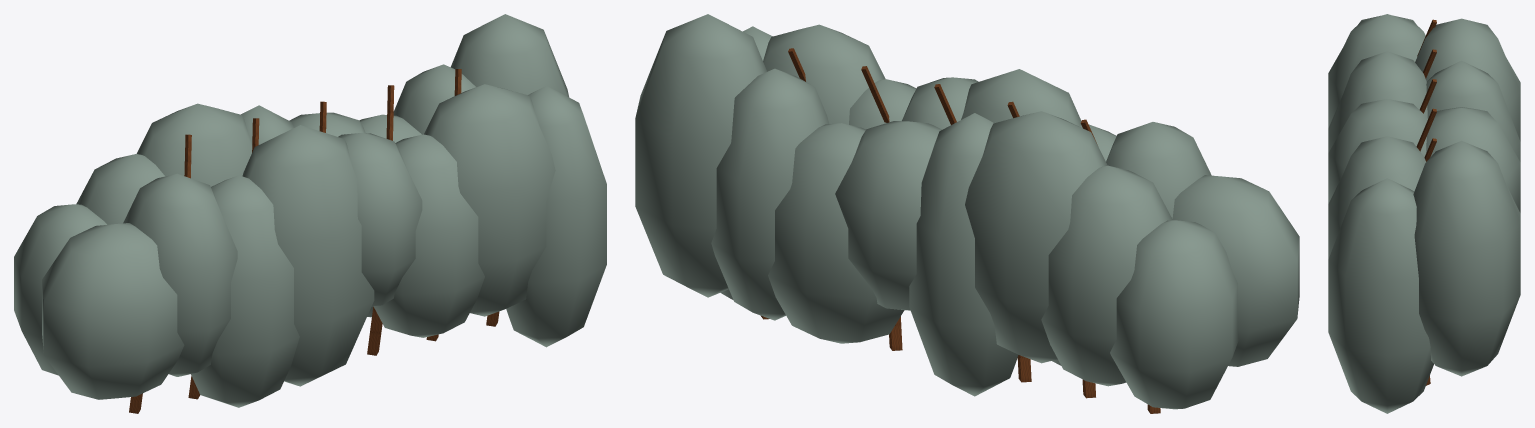
The model's file is halloween-slasher-street-overgrown-hedge-14c2f22b__27283.glb.
The picture shows the model from 3 angles, left to right: view 1: azimuth 30°, elevation 25°; view 2: azimuth 150°, elevation 25°; view 3: azimuth 270°, elevation 25°; orthographic projection. The views are drawn at different scales.
Parts seen in each view (by area): view 1: overgrown-hedge; view 2: overgrown-hedge; view 3: overgrown-hedge.
Boxes of the visible parts, box(x1,y1,x2,y2) form: overgrown-hedge: box(14, 14, 606, 413); overgrown-hedge: box(635, 14, 1299, 413); overgrown-hedge: box(1328, 14, 1520, 413).
Bounding box in the file's own units: 2.85 × 1.46 × 0.9306.
2 materials, 1 textured.
